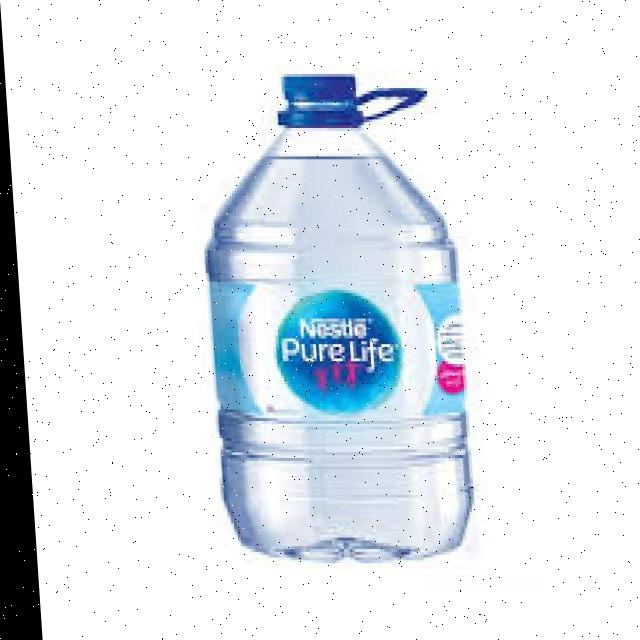bottle: (181, 49, 553, 603)
